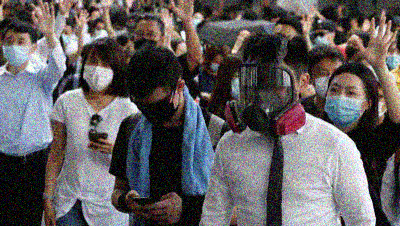with_mask: (238, 70, 299, 132), (324, 82, 367, 127), (135, 91, 177, 127), (82, 56, 114, 90), (312, 64, 341, 98), (2, 36, 30, 65), (132, 28, 160, 52), (311, 29, 331, 49), (345, 40, 364, 61), (384, 45, 399, 70)
